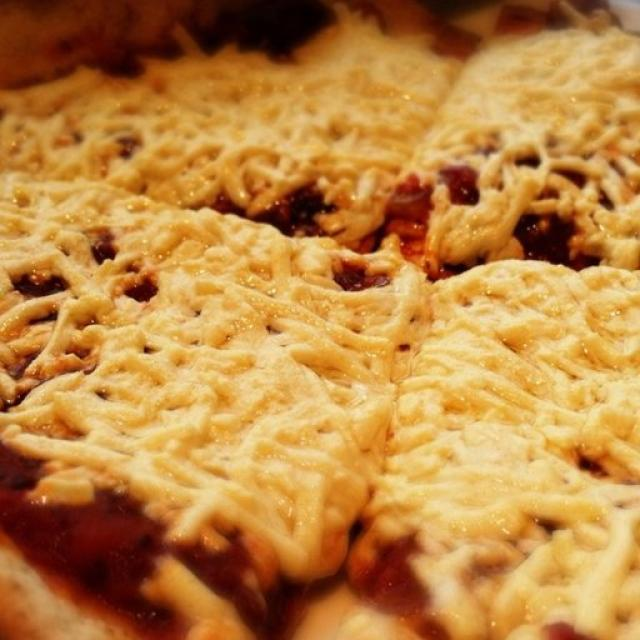Cheese: (194, 251, 640, 540), (51, 86, 640, 205), (16, 211, 194, 504), (335, 34, 640, 108)
Pizza: (0, 0, 640, 640)
